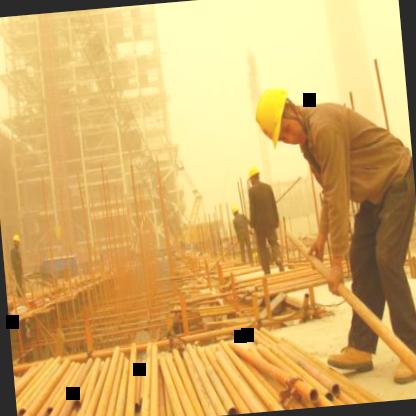helmet: (254, 78, 308, 154), (245, 162, 264, 187), (7, 233, 22, 250), (230, 202, 242, 221)
